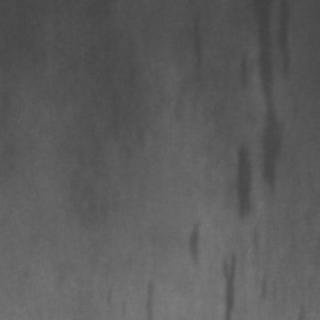inclusion: (252, 1, 292, 210), (219, 133, 257, 225), (176, 8, 212, 76), (211, 245, 241, 317), (181, 216, 209, 268), (134, 270, 160, 318)
